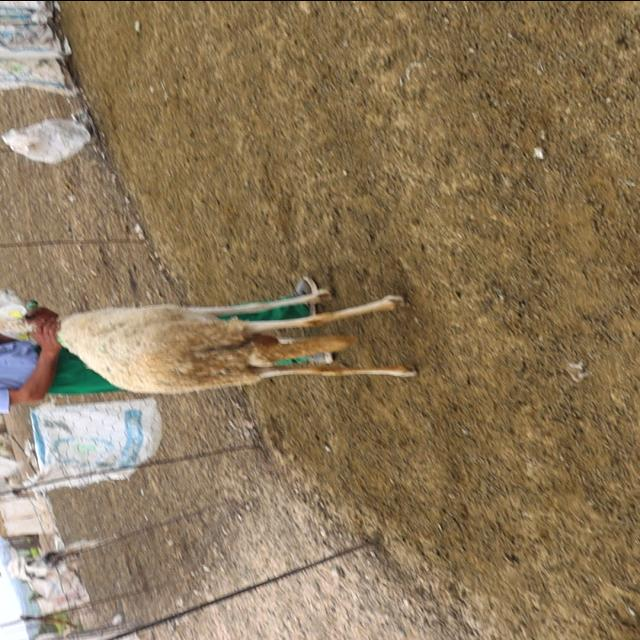Score_2: (58, 288, 417, 393)
